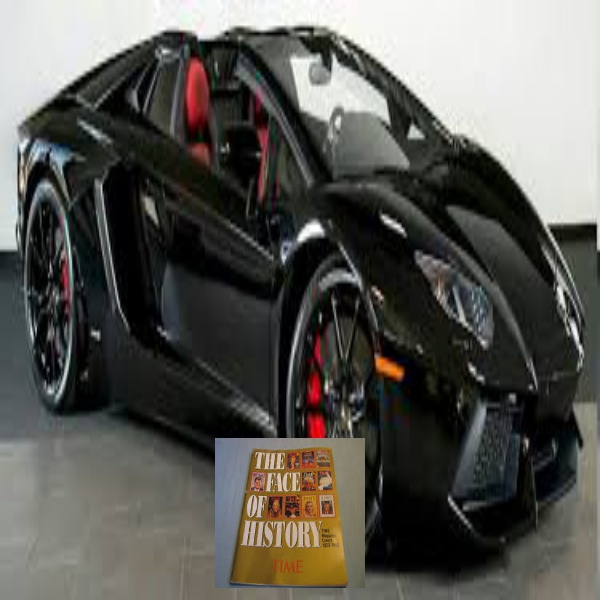time_cover: (234, 431, 349, 589)
